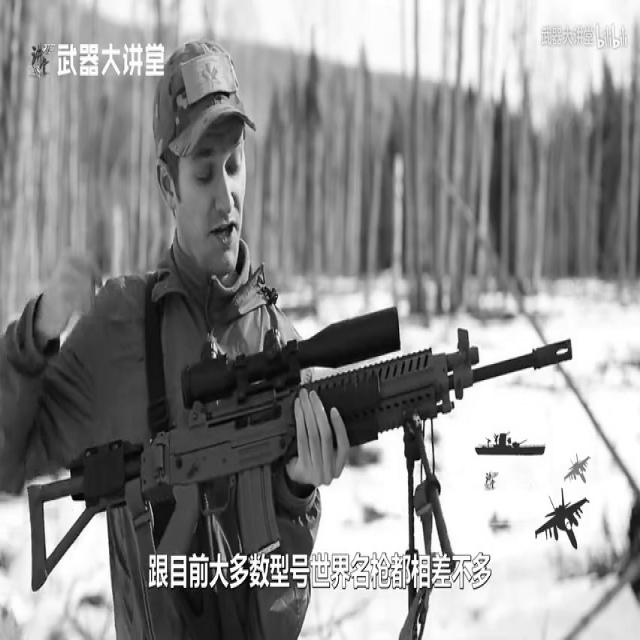Knife: (6, 266, 602, 640)
Sniper: (418, 424, 426, 442)
